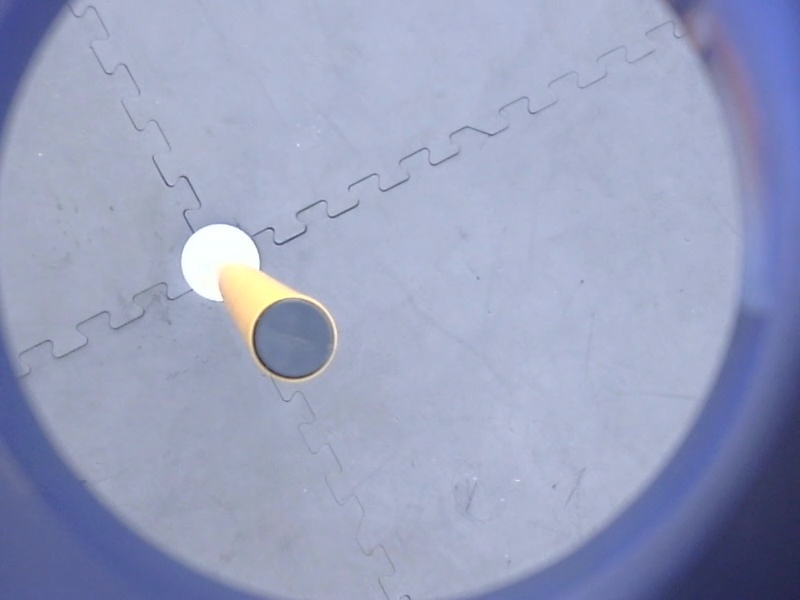tip: (243, 290, 344, 390)
